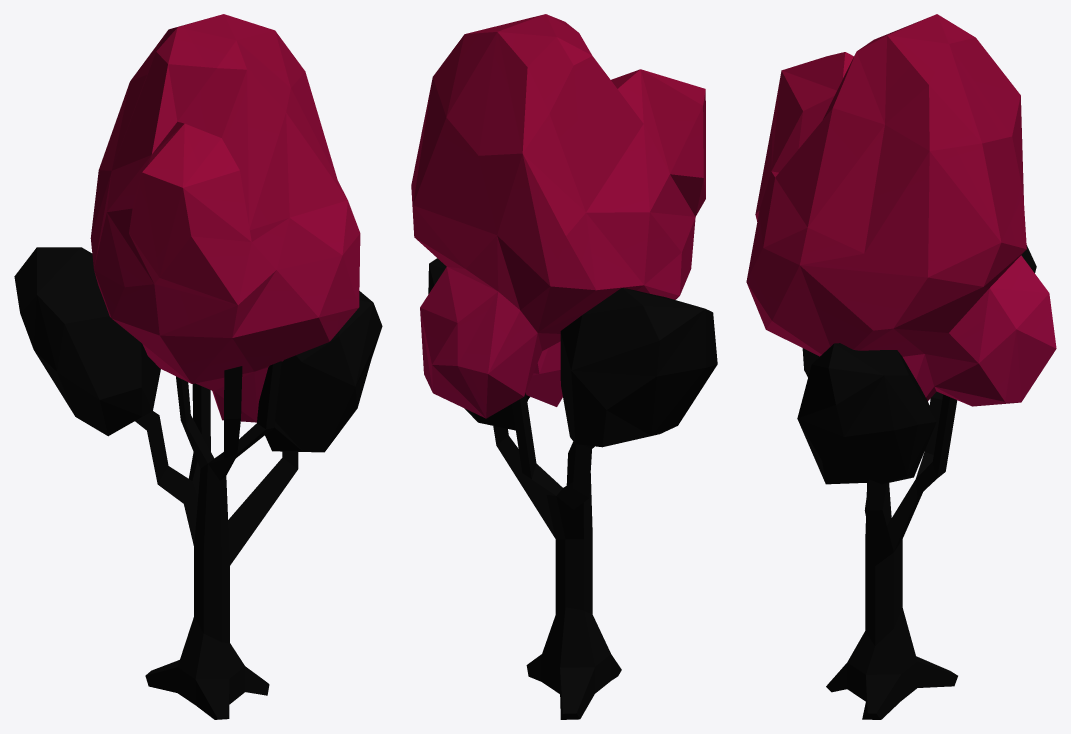
Rendered from tree-03.glb.
The picture shows the model from 3 angles, left to right: view 1: azimuth 30°, elevation 25°; view 2: azimuth 150°, elevation 25°; view 3: azimuth 270°, elevation 25°; orthographic projection. The views are drawn at different scales.
Visible parts, largest first — view 1: SM_Env_Tree_03; view 2: SM_Env_Tree_03; view 3: SM_Env_Tree_03.
Boxes of the visible parts, left/top/right/bottom form: SM_Env_Tree_03: left=14, top=14, right=382, bottom=719; SM_Env_Tree_03: left=411, top=14, right=717, bottom=719; SM_Env_Tree_03: left=746, top=14, right=1056, bottom=719.
Size of the model in its own units: 472 by 998 by 407.
1 material, 1 textured.
